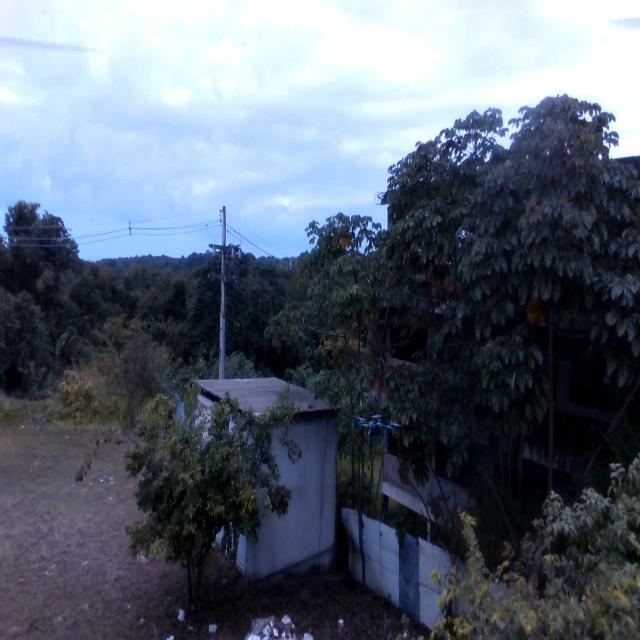-uav-: (349, 397, 410, 483)
